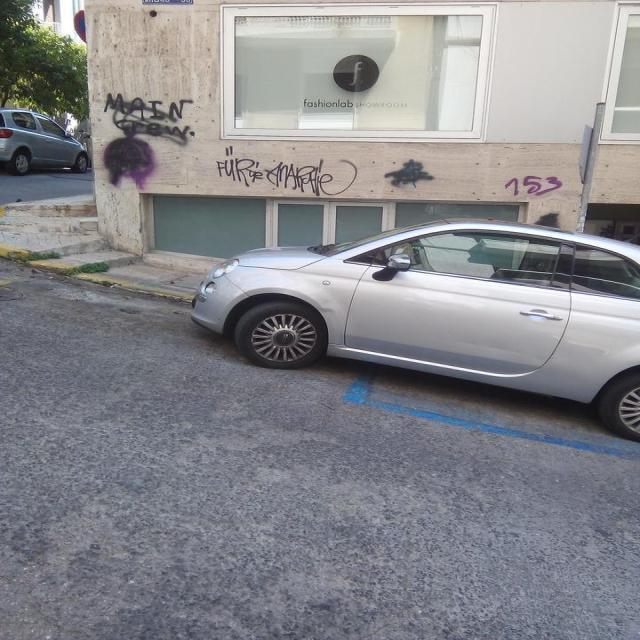nonspitting: (101, 90, 197, 186), (218, 144, 360, 197), (384, 159, 432, 189), (506, 174, 563, 196)
